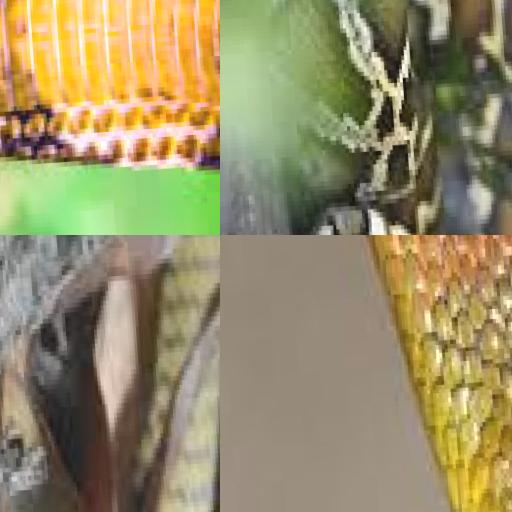1: (0, 0, 220, 235)
2: (220, 235, 512, 512)
5: (84, 235, 220, 512)
snake: (239, 0, 512, 235)
